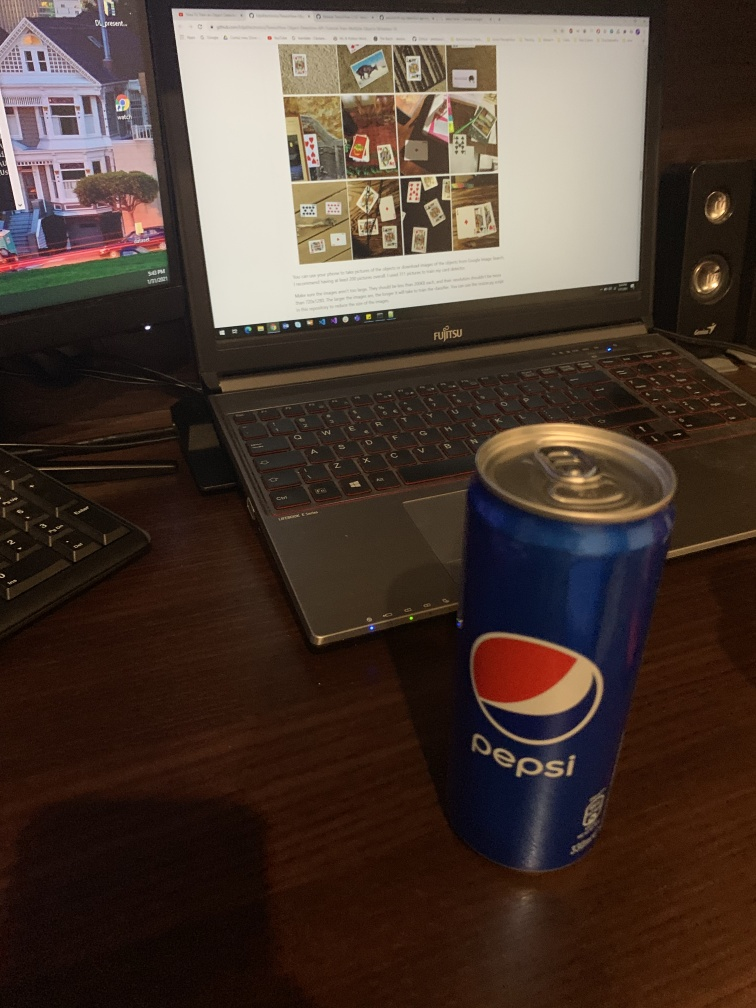pepsi: (432, 423, 690, 885)
